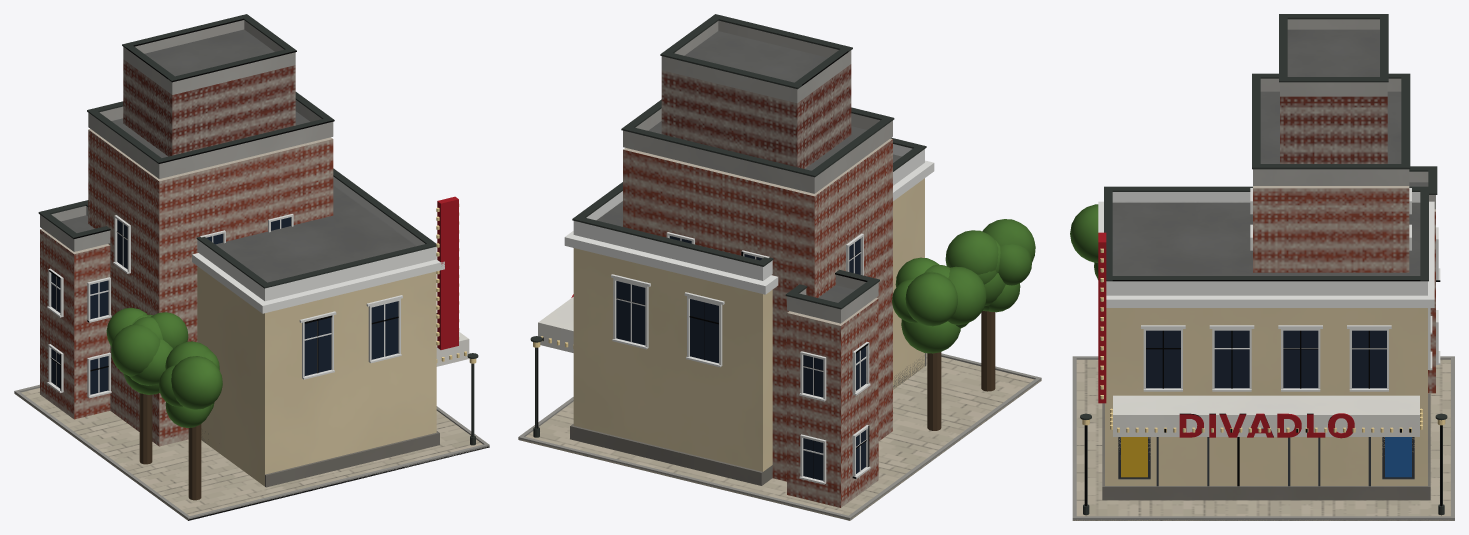
Rendered from dum_1f_divadlo.glb.
3 renders of one model, left to right at view 1: azimuth 30°, elevation 25°; view 2: azimuth 150°, elevation 25°; view 3: azimuth 270°, elevation 25°, orthographic. The views are drawn at different scales.
Parts seen in each view (by area): view 1: dlazba_kamen; view 2: dlazba_kamen; view 3: dlazba_kamen.
Part boxes in pixels (x1,y1,x2,y2): dlazba_kamen: (14,14,489,520); dlazba_kamen: (518,14,1041,520); dlazba_kamen: (1070,14,1454,520).
Bounding box in the file's own units: 14.65 × 15.82 × 14.26.
1 material, 1 textured.
